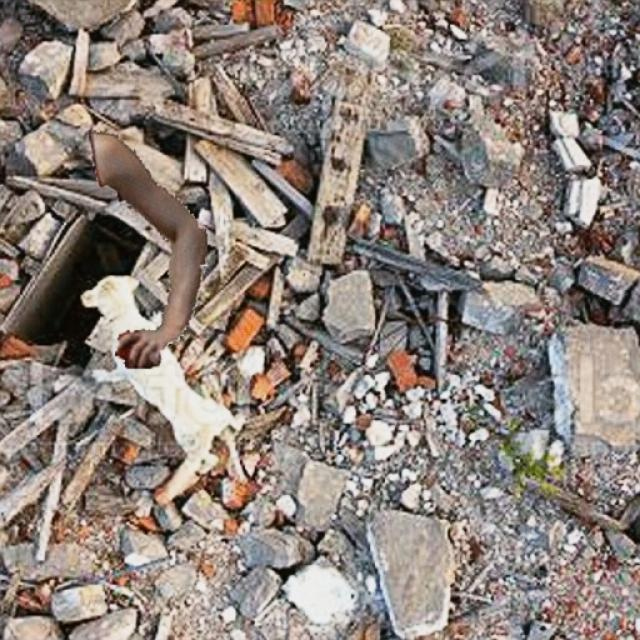Person in Rubble: (88, 130, 206, 368)
